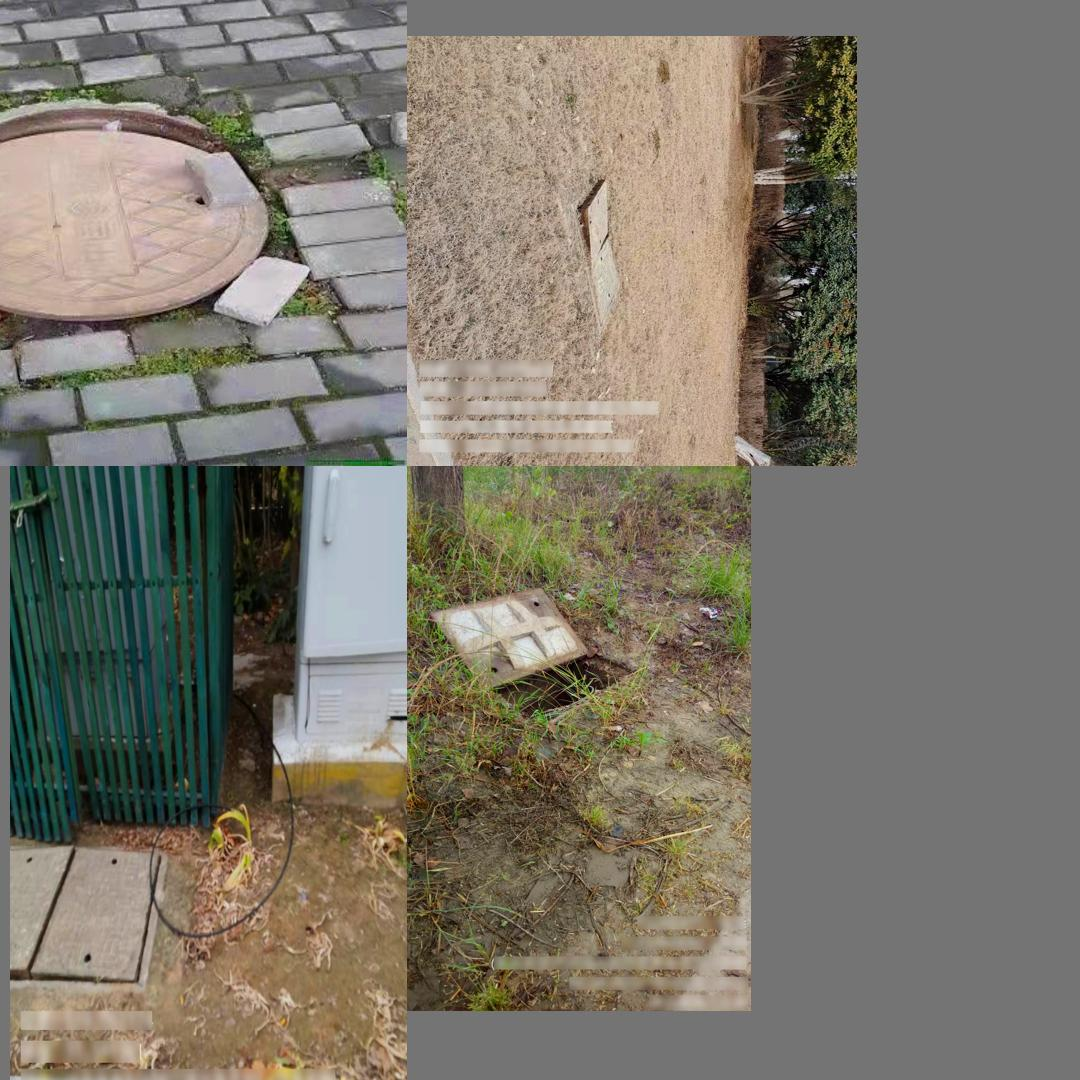uncovered: (0, 98, 270, 322), (428, 588, 638, 722), (10, 845, 164, 995), (576, 180, 624, 337)
